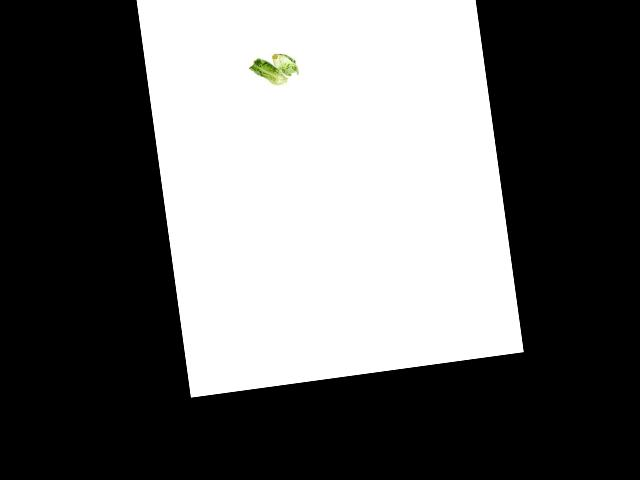lettuce: (248, 45, 301, 89)
